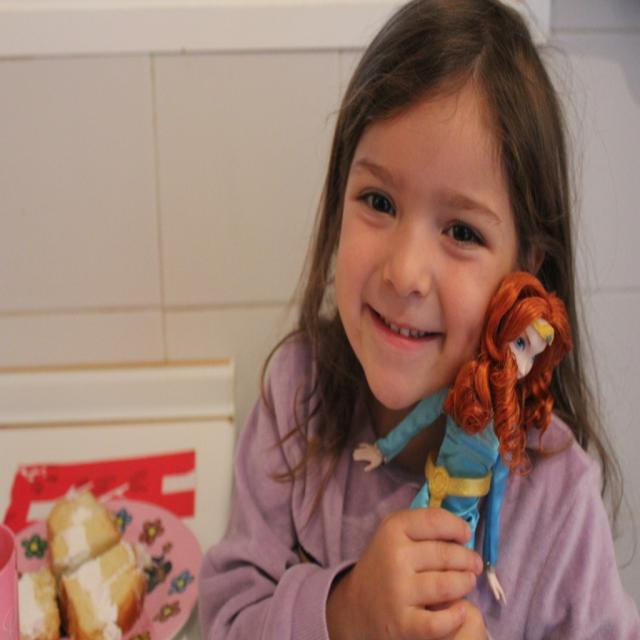Nonhelmet: (302, 0, 570, 425)
